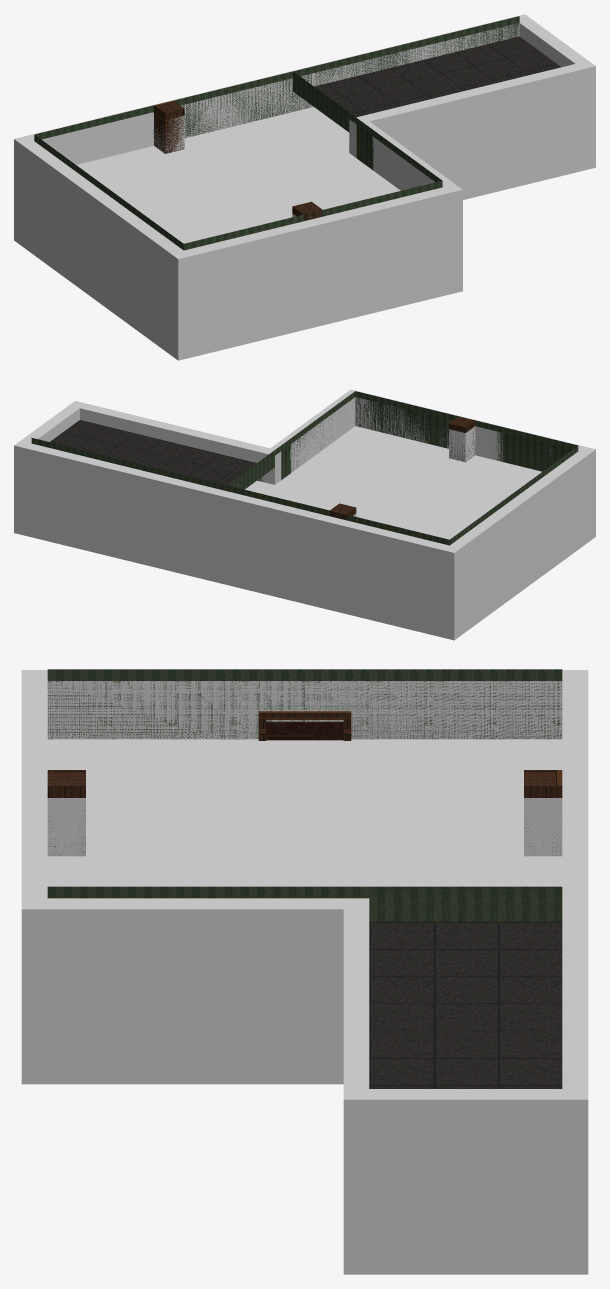
File: test_room.glb
3 views of the same model, one above another, from view 1: azimuth 30°, elevation 25°; view 2: azimuth 150°, elevation 25°; view 3: azimuth 270°, elevation 25° (orthographic). The views are drawn at different scales.
Visible parts, largest first — view 1: COL_Wall_S, Room_Shell, COL_Wall_S_Corridor, COL_Wall_W, TRG_CAM_2, COL_Wall_N, TRG_CAM_1, COL_Wall_E_Hall, Pillar_2, COL_Wall_E_Corridor, COL_Pillar_2, TRG_CAM_2_entrada; view 2: COL_Wall_N, Room_Shell, COL_Wall_W, TRG_CAM_2, TRG_CAM_1, COL_Wall_S_Corridor, COL_Wall_S, COL_Wall_E_Hall, COL_Wall_E_Corridor, COL_Pillar_1, Pillar_1; view 3: Room_Shell, COL_Wall_E_Hall, TRG_CAM_1, COL_Wall_E_Corridor, COL_Wall_W, TRG_CAM_2, COL_Wall_N, COL_Wall_S, COL_Wall_S_Corridor, COL_Pillar_1, COL_Pillar_2, DOOR_save-room (+3 smaller).
Part boxes in pixels (x1=…): COL_Wall_S: x1=171, y1=184, x2=462, y2=360; Room_Shell: x1=34, y1=16, x2=561, y2=250; COL_Wall_S_Corridor: x1=349, y1=60, x2=595, y2=199; COL_Wall_W: x1=21, y1=141, x2=183, y2=354; TRG_CAM_2: x1=169, y1=110, x2=400, y2=220; COL_Wall_N: x1=14, y1=14, x2=531, y2=245; TRG_CAM_1: x1=76, y1=146, x2=277, y2=243; COL_Wall_E_Hall: x1=363, y1=121, x2=462, y2=293; Pillar_2: x1=154, y1=100, x2=184, y2=153; COL_Wall_E_Corridor: x1=519, y1=19, x2=587, y2=66; COL_Pillar_2: x1=154, y1=115, x2=184, y2=153; TRG_CAM_2_entrada: x1=300, y1=107, x2=349, y2=146; COL_Wall_N: x1=14, y1=441, x2=460, y2=640; Room_Shell: x1=31, y1=391, x2=578, y2=545; COL_Wall_W: x1=450, y1=451, x2=589, y2=635; TRG_CAM_2: x1=257, y1=426, x2=459, y2=522; TRG_CAM_1: x1=371, y1=455, x2=541, y2=539; COL_Wall_S_Corridor: x1=69, y1=401, x2=281, y2=484; COL_Wall_S: x1=345, y1=389, x2=595, y2=540; COL_Wall_E_Hall: x1=263, y1=390, x2=360, y2=484; COL_Wall_E_Corridor: x1=20, y1=405, x2=79, y2=443; COL_Pillar_1: x1=449, y1=426, x2=475, y2=461; Pillar_1: x1=449, y1=416, x2=475, y2=462; Room_Shell: x1=47, y1=669, x2=562, y2=1088; COL_Wall_E_Hall: x1=21, y1=898, x2=366, y2=1084; TRG_CAM_1: x1=47, y1=739, x2=562, y2=853; COL_Wall_E_Corridor: x1=369, y1=1089, x2=562, y2=1274; COL_Wall_W: x1=47, y1=681, x2=562, y2=739; TRG_CAM_2: x1=47, y1=842, x2=562, y2=886; COL_Wall_N: x1=562, y1=670, x2=588, y2=1274; COL_Wall_S: x1=21, y1=670, x2=47, y2=1084; COL_Wall_S_Corridor: x1=343, y1=898, x2=369, y2=1274; COL_Pillar_1: x1=47, y1=798, x2=85, y2=856; COL_Pillar_2: x1=524, y1=798, x2=562, y2=856; DOOR_save-room: x1=266, y1=721, x2=343, y2=740.
Size of the model in its own units: 15.8 by 3.2 by 8.8.
11 materials, 11 textured.
